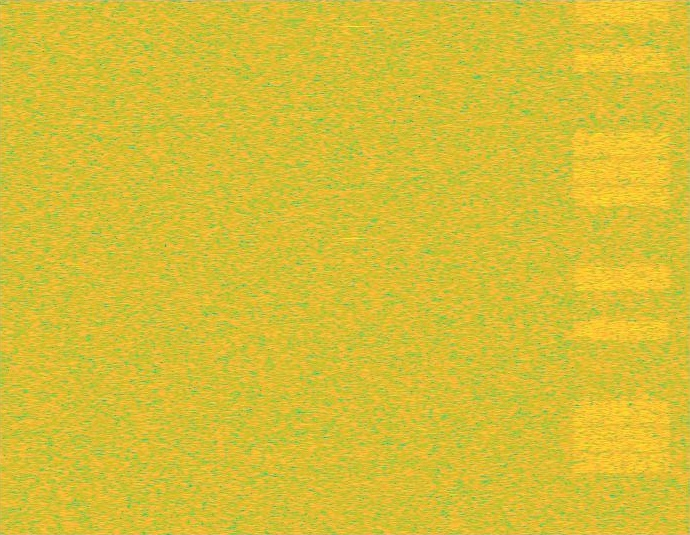LTE: (570, 0, 674, 534)
Radar: (347, 0, 360, 534)
